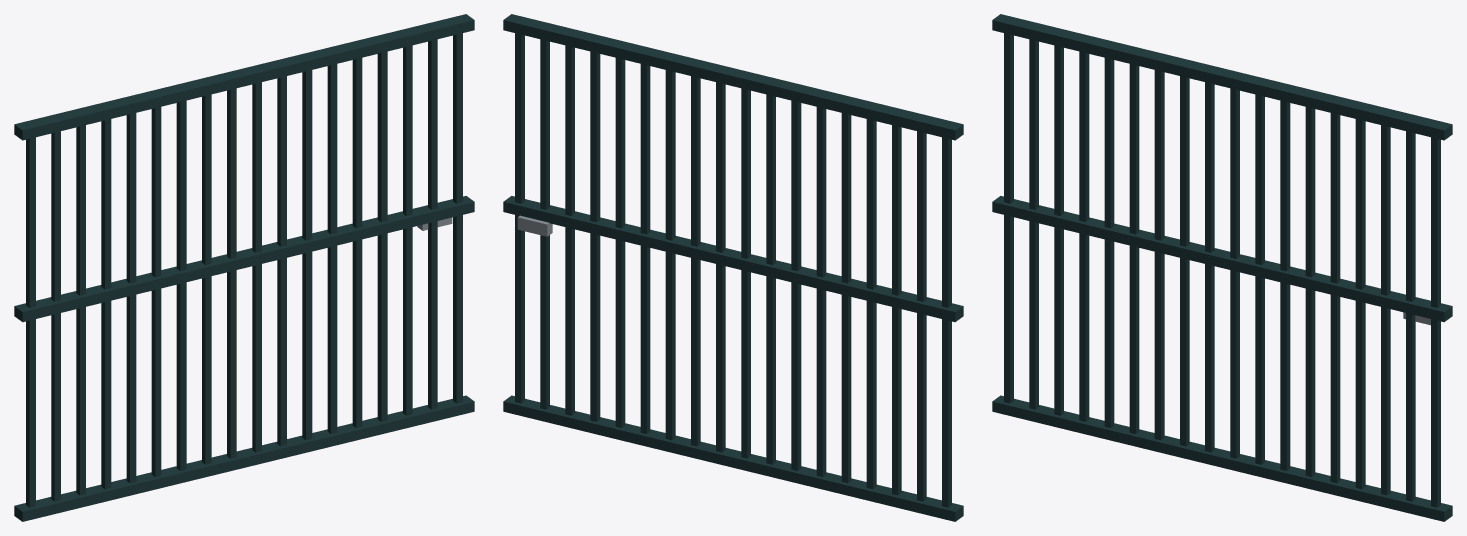
File: bars_gate_leaf_M.fbx
The picture shows the model from 3 angles, left to right: view 1: azimuth 30°, elevation 25°; view 2: azimuth 150°, elevation 25°; view 3: azimuth 330°, elevation 25°; orthographic projection.
Visible parts, largest first — view 1: bars_gate_leaf_M; view 2: bars_gate_leaf_M; view 3: bars_gate_leaf_M.
Boxes of the visible parts, box(x1,y1,x2,y2) form: bars_gate_leaf_M: box(14, 14, 474, 521); bars_gate_leaf_M: box(503, 14, 963, 521); bars_gate_leaf_M: box(992, 14, 1452, 521).
Bounding box in the file's own units: 2.9 × 2.4 × 0.12.
